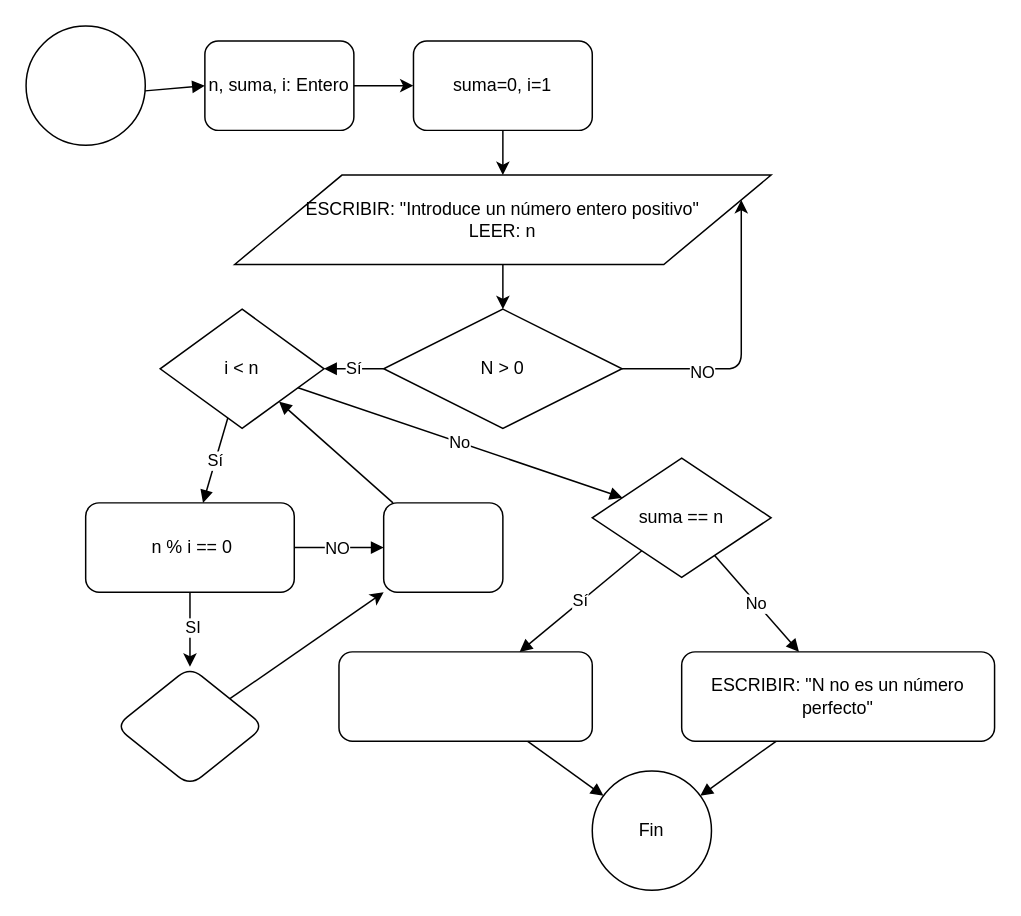
Some shapes in this 1021 by 916 pixel diagram are drawn without their labels. The shapes that lost their labels are listed below. From the top down, each one's box as (x1, y1, x2, y2) in pixels, then its label:
(25, 25, 145, 145): Inicio
(382, 501, 503, 592): i = i + 1
(337, 650, 592, 741): ESCRIBIR: "N es un número perfecto"
(114, 665, 264, 786): suma = suma + i
